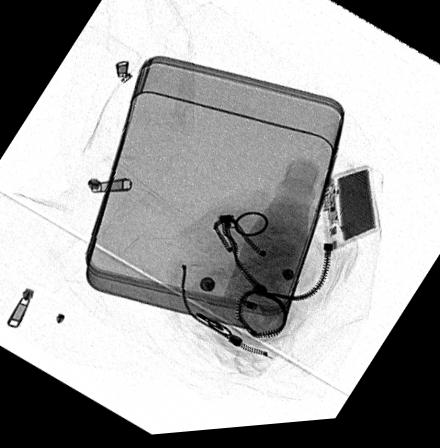Powerbank: (319, 171, 380, 256)
